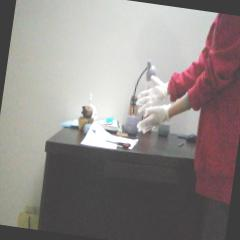gloved: (134, 73, 168, 114), (136, 101, 169, 137)
